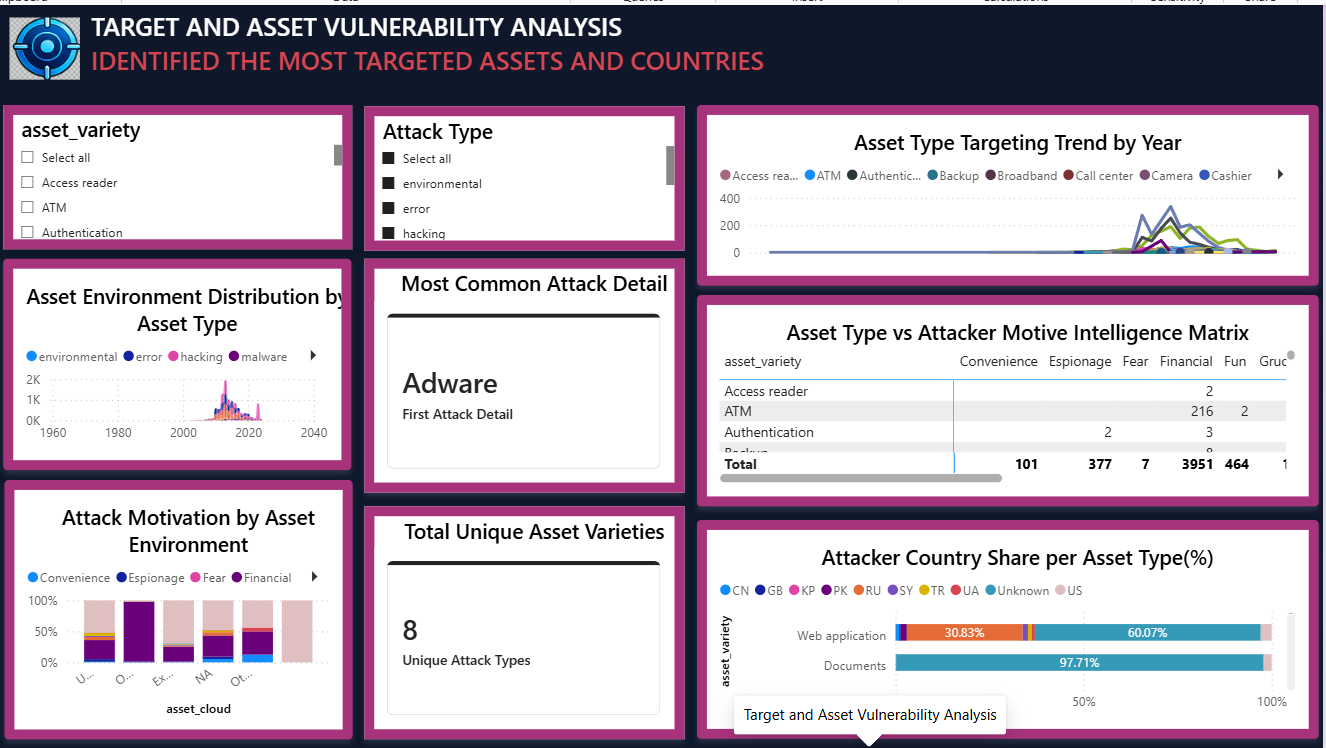

The page's visual inventory and layout, read from the dashboard file:
{"tool":"powerbi","page":{"name":"Target and Asset Vulnerability Analysis","canvas":[1280,720],"ordinal":3},"visuals":[{"type":"textbox","box":[0,0,1280,81.2],"z":0},{"type":"pivotTable","title":"Asset Type vs Attacker Motive Intelligence Matrix","fields":{"Rows":["result.asset_variety"],"Values":["result.Total Incidents"],"Columns":["result.motive"]},"box":[675.3,280.2,600,203.7],"z":1000},{"type":"ribbonChart","title":"Asset Environment Distribution by Asset Type","fields":{"Category":["result.year"],"Series":["result.Attack Type"],"Y":["result.Total Incidents"]},"box":[6.2,244.4,335.8,203.7],"z":2000},{"type":"slicer","fields":{"Values":["result.asset_variety"]},"box":[6.2,96.3,337,139.5],"z":3000},{"type":"cardVisual","title":"Total Unique Asset Varieties","fields":{"Data":["result.Unique Attack Types"]},"box":[354.3,484,308.6,224.7],"z":4000},{"type":"hundredPercentStackedBarChart","title":" Attacker Country Share per Asset Type(%)","fields":{"Category":["result.asset_variety"],"Y":["result.Total Incidents"],"Series":["result.Attacker Country"]},"box":[675.3,497.5,600,211.1],"z":5000},{"type":"lineChart","title":"Asset Type Targeting Trend by Year","fields":{"Category":["result.year"],"Y":["result.Total Incidents"],"Series":["result.asset_variety"]},"box":[675.3,96.3,600,174.1],"z":6000},{"type":"hundredPercentStackedColumnChart","title":"Attack Motivation by Asset Environment","fields":{"Category":["result.asset_cloud"],"Y":["result.Total Incidents"],"Series":["result.motive"]},"box":[7.4,458,335.8,250.6],"z":7000},{"type":"cardVisual","title":"Most Common Attack Detail","fields":{"Data":["Min(result.Attack Detail)"]},"box":[354.3,244.4,308.6,225.9],"z":8000},{"type":"slicer","fields":{"Values":["result.Attack Type"]},"box":[354.7,97.7,308.6,139.5],"z":9000},{"type":"image","box":[7.2,12.1,77.2,60.3],"z":10000}]}

Visuals, with their boxes on the page's 1280x720 design canvas (x1, y1, x2, y2). These are canvas units, not pixel positions in the 1326x748 screenshot, which may show the page scaled, cropped or inside an application window:
textbox: (x1=0, y1=0, x2=1280, y2=81)
"Asset Type vs Attacker Motive Intelligence Matrix" pivotTable: (x1=675, y1=280, x2=1275, y2=484)
"Asset Environment Distribution by Asset Type" ribbonChart: (x1=6, y1=244, x2=342, y2=448)
slicer - result.asset_variety: (x1=6, y1=96, x2=343, y2=236)
"Total Unique Asset Varieties" cardVisual: (x1=354, y1=484, x2=663, y2=709)
" Attacker Country Share per Asset Type(%)" hundredPercentStackedBarChart: (x1=675, y1=498, x2=1275, y2=709)
"Asset Type Targeting Trend by Year" lineChart: (x1=675, y1=96, x2=1275, y2=270)
"Attack Motivation by Asset Environment" hundredPercentStackedColumnChart: (x1=7, y1=458, x2=343, y2=709)
"Most Common Attack Detail" cardVisual: (x1=354, y1=244, x2=663, y2=470)
slicer - result.Attack Type: (x1=355, y1=98, x2=663, y2=237)
image: (x1=7, y1=12, x2=84, y2=72)
